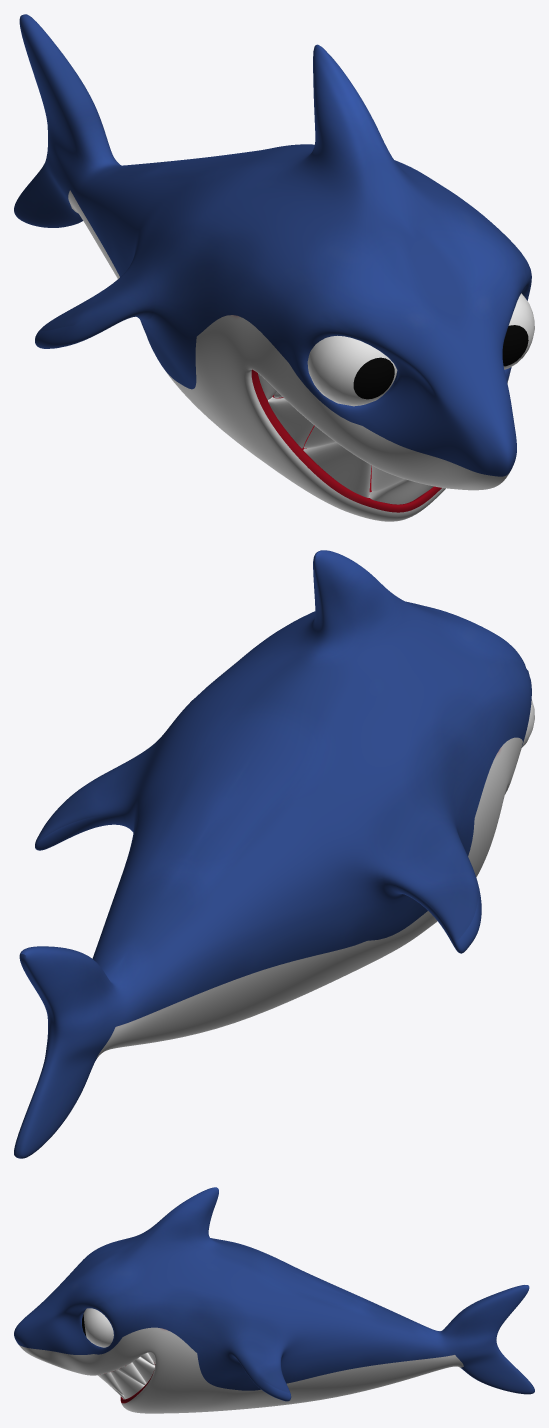
Rendered from whale-obstacle.fbx.
The picture shows the model from 3 angles, top to bottom: view 1: azimuth 30°, elevation 25°; view 2: azimuth 150°, elevation 25°; view 3: azimuth 270°, elevation 25°; orthographic projection. The views are drawn at different scales.
Parts seen in each view (by area): view 1: body, mata, gigi; view 2: body; view 3: body, gigi, mata.
Part boxes in pixels (x1,y1,x2,y2): body: [14, 14, 531, 521]; mata: [307, 293, 534, 406]; gigi: [258, 373, 433, 504]; body: [14, 550, 531, 1158]; body: [14, 1187, 534, 1413]; gigi: [98, 1352, 155, 1399]; mata: [82, 1308, 113, 1347].
Bounding box in the file's own units: 184 × 171 × 363.
4 materials, 1 textured.
